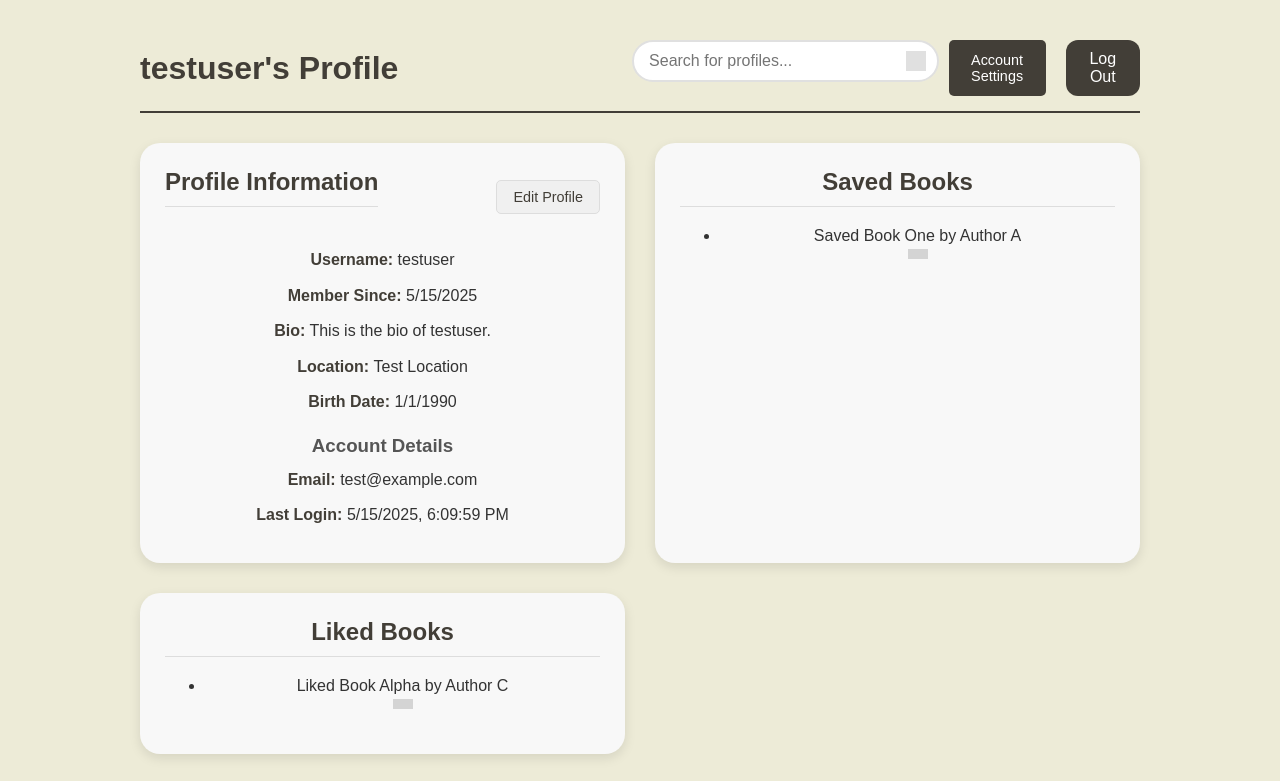
Test case: ProfilePage Component - Initial Rendering › Profile Editing (Own Profile) › shows error message on failed profile update
Click the button "Edit Profile" at (548, 198), box [496,180,600,214]
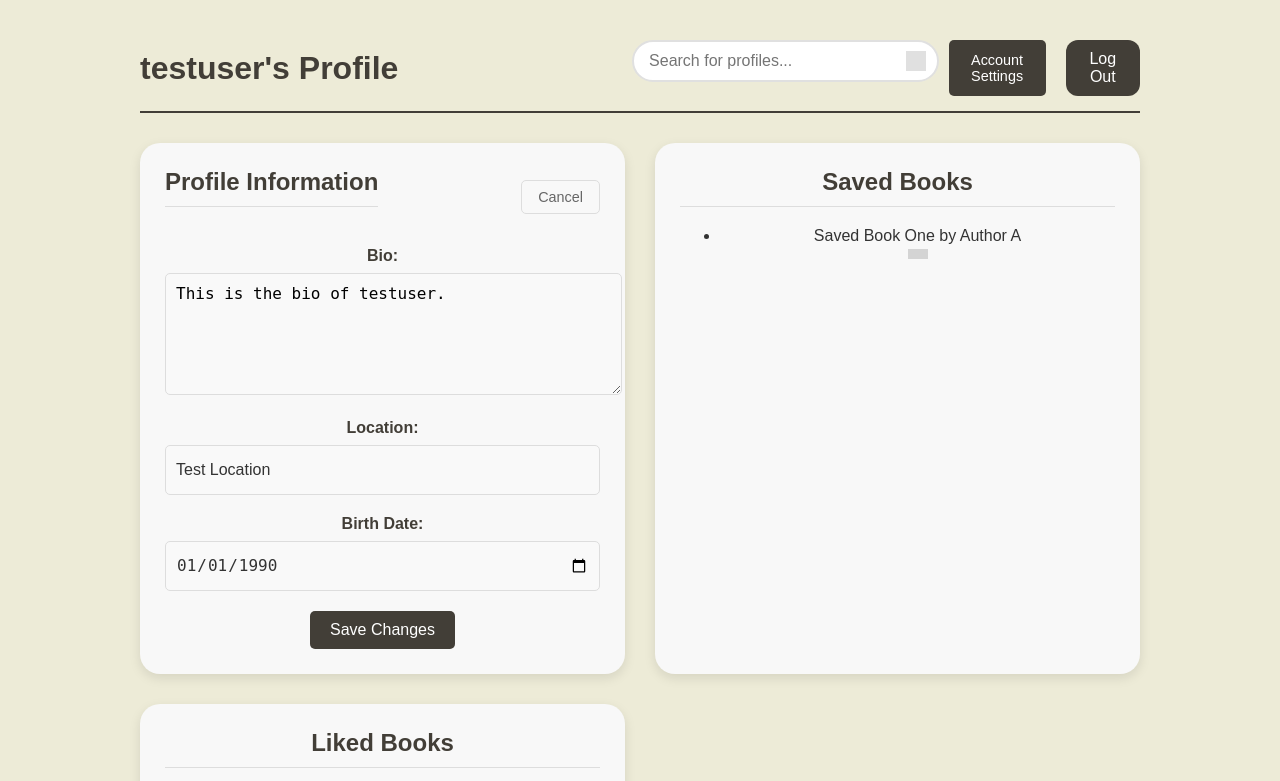
Submit the form named "edit profile form", box [165,247,600,649]
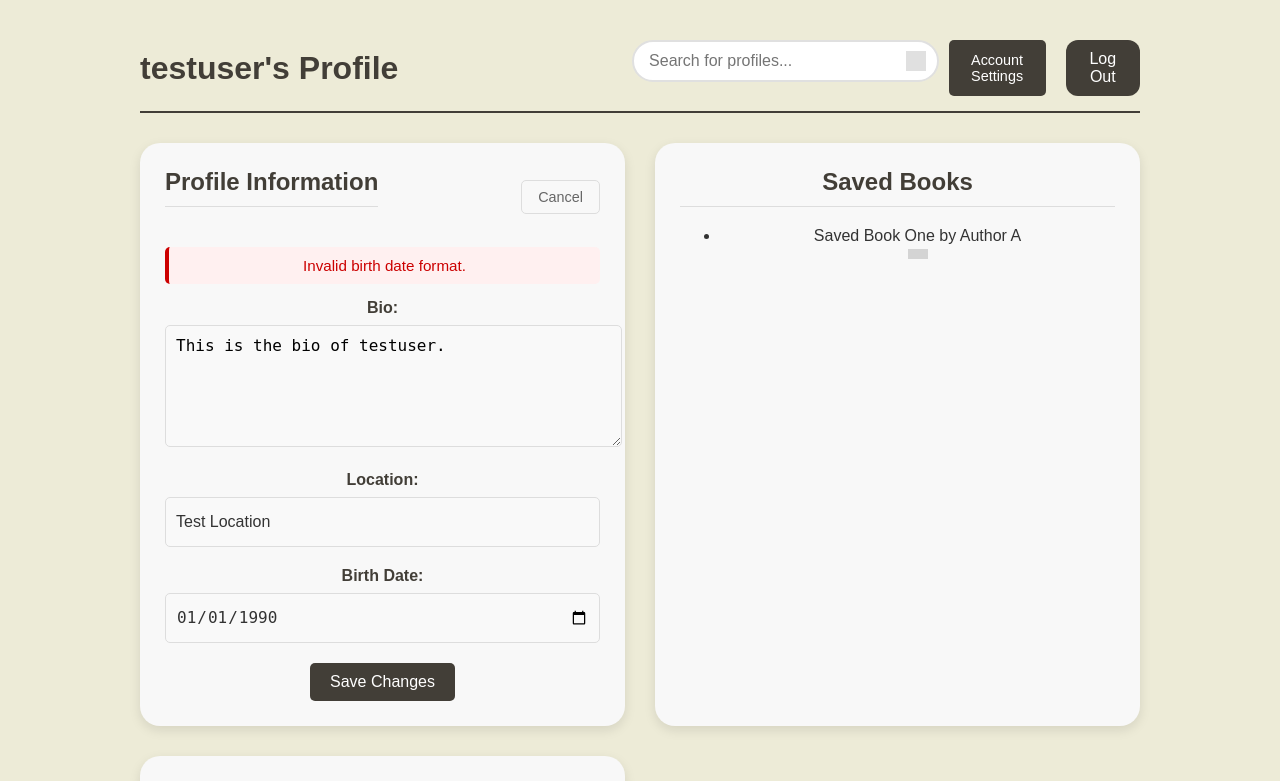
Expected: the form "Bio: Location: Birth Date: Save Changes" is shown, [165,299,600,701]
Expected: the text "Invalid birth date format." is shown, [165,247,600,284]
